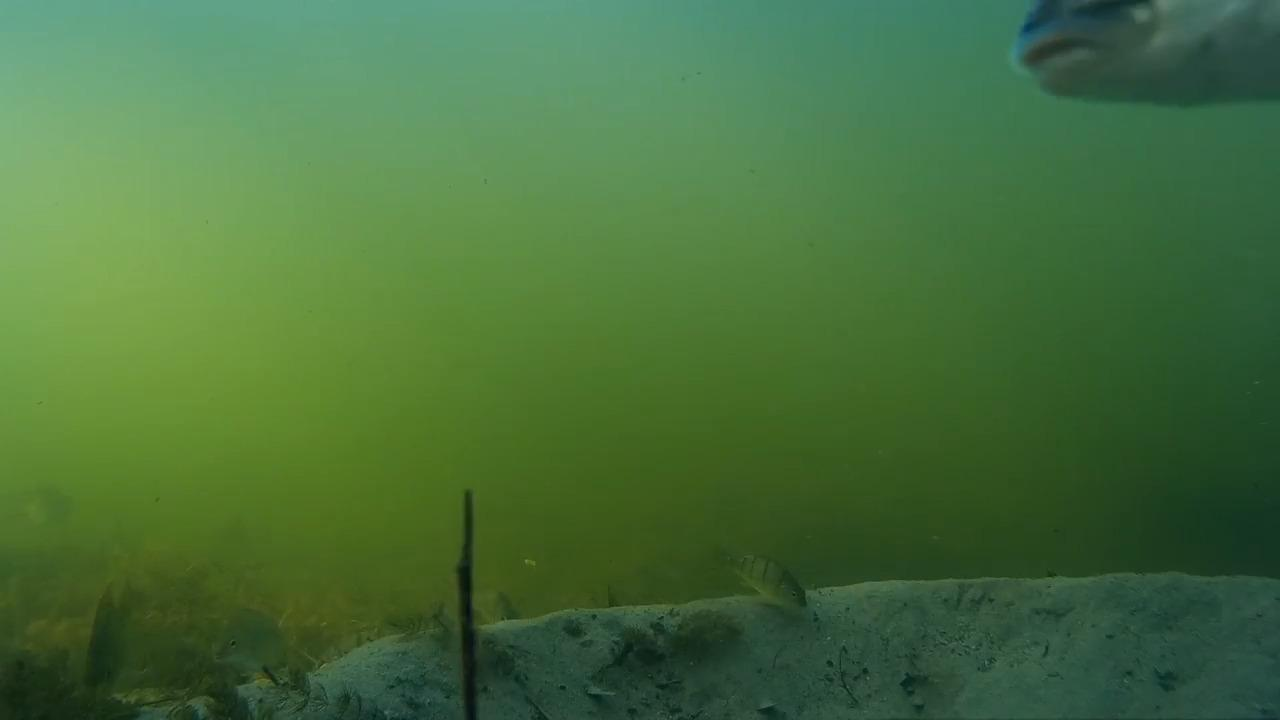Tilapia: (1008, 0, 1280, 119), (73, 552, 169, 702), (710, 536, 835, 642), (207, 598, 323, 694)
